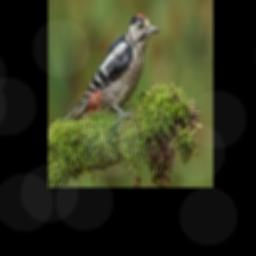Woodpecker: (63, 13, 160, 122)
